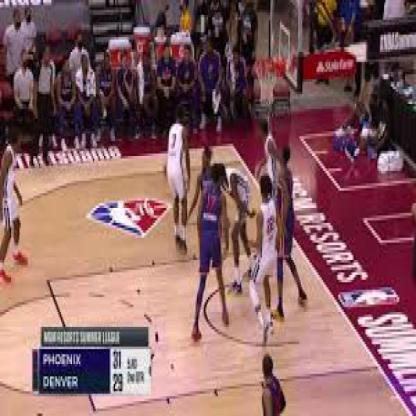rim: (255, 54, 277, 74)
